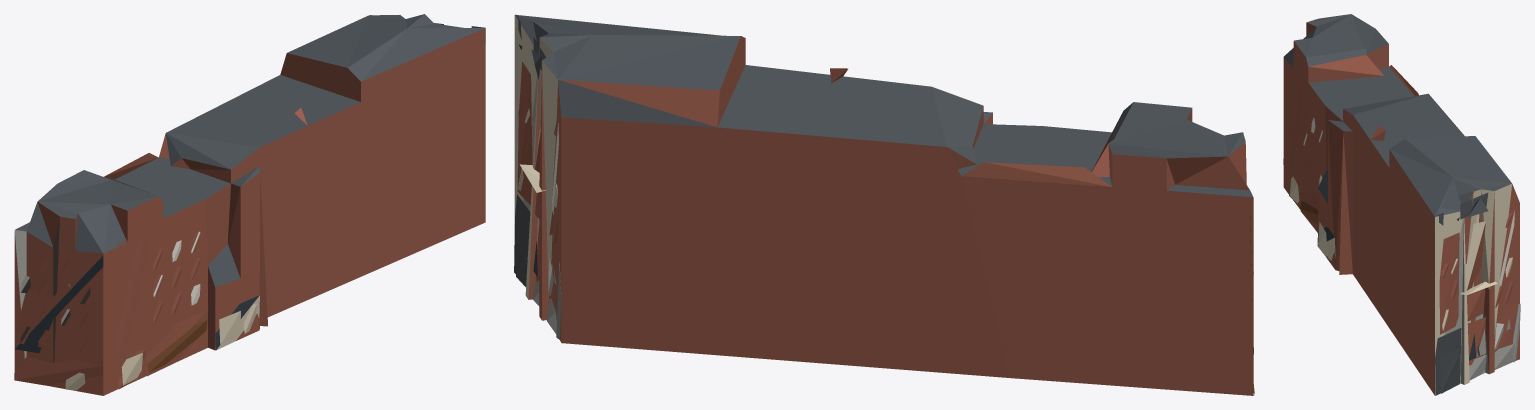
File: passage-central.lod2.glb
3 views of the same model, side by side, from view 1: azimuth 30°, elevation 25°; view 2: azimuth 150°, elevation 25°; view 3: azimuth 270°, elevation 25° (orthographic). The views are drawn at different scales.
Parts seen in each view (by area): view 1: lod2; view 2: lod2; view 3: lod2.
Boxes of the visible parts, x1=… form: lod2: x1=14, y1=14, x2=485, y2=395; lod2: x1=514, y1=14, x2=1254, y2=395; lod2: x1=1283, y1=14, x2=1520, y2=395.
Size of the model in its own units: 68.21 by 25.82 by 29.62.
